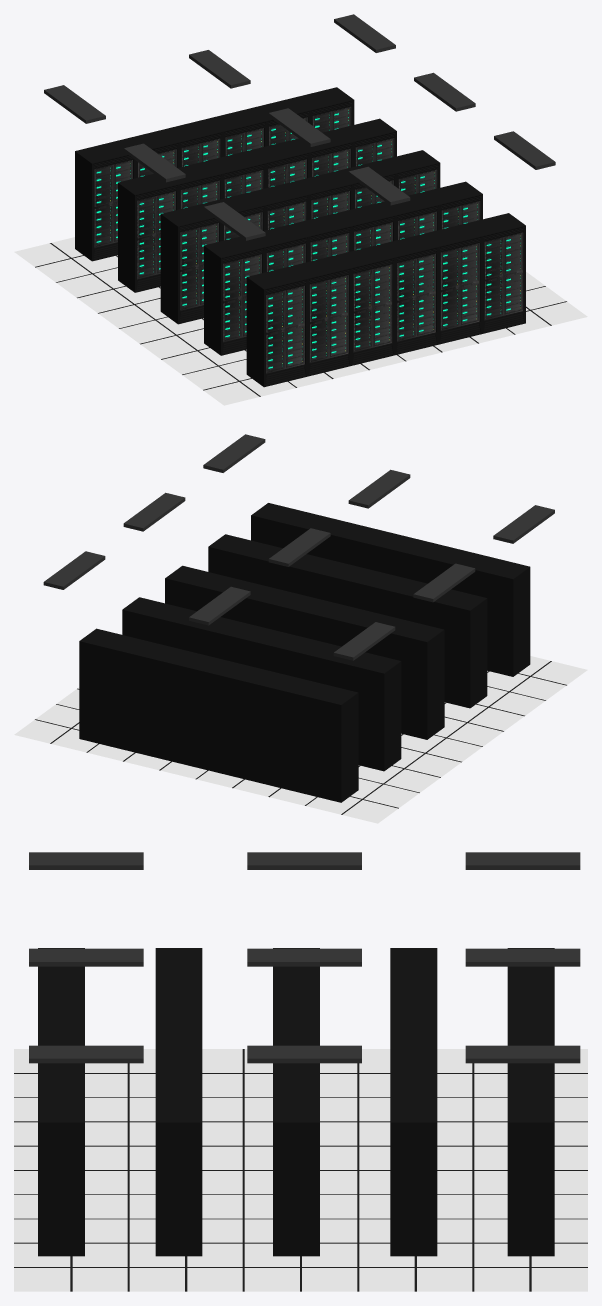
Rendered from data-transformed.glb.
3 renders of one model, top to bottom at view 1: azimuth 30°, elevation 25°; view 2: azimuth 150°, elevation 25°; view 3: azimuth 270°, elevation 25°, orthographic. The views are drawn at different scales.
Visible parts, largest first — view 1: Cluster, Plane.001, LampTeto.003, Plane; view 2: Cluster, Plane.001, LampTeto.003, Plane; view 3: Plane.001, Cluster, LampTeto.003, Plane.
Part boxes in pixels (x1=…): Cluster: x1=75, y1=87, x2=525, y2=387; Plane.001: x1=14, y1=237, x2=587, y2=405; LampTeto.003: x1=44, y1=14, x2=555, y2=240; Plane: x1=35, y1=243, x2=566, y2=396; Cluster: x1=79, y1=503, x2=530, y2=802; Plane.001: x1=14, y1=656, x2=587, y2=823; LampTeto.003: x1=43, y1=434, x2=554, y2=660; Plane: x1=35, y1=661, x2=566, y2=814; Plane.001: x1=14, y1=1049, x2=587, y2=1291; Cluster: x1=38, y1=948, x2=554, y2=1256; LampTeto.003: x1=29, y1=852, x2=580, y2=1063; Plane: x1=14, y1=1049, x2=587, y2=1291.
Bounding box in the file's own units: 44 × 18.19 × 44.
Materials: 8 (1 with a texture image).
